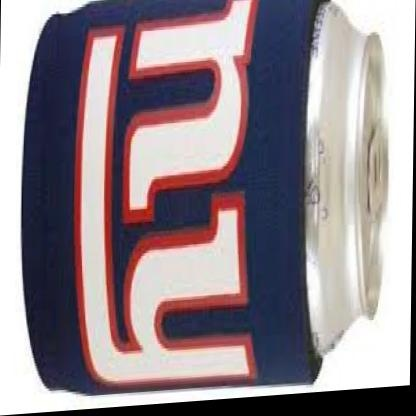trash: (22, 0, 389, 393)
